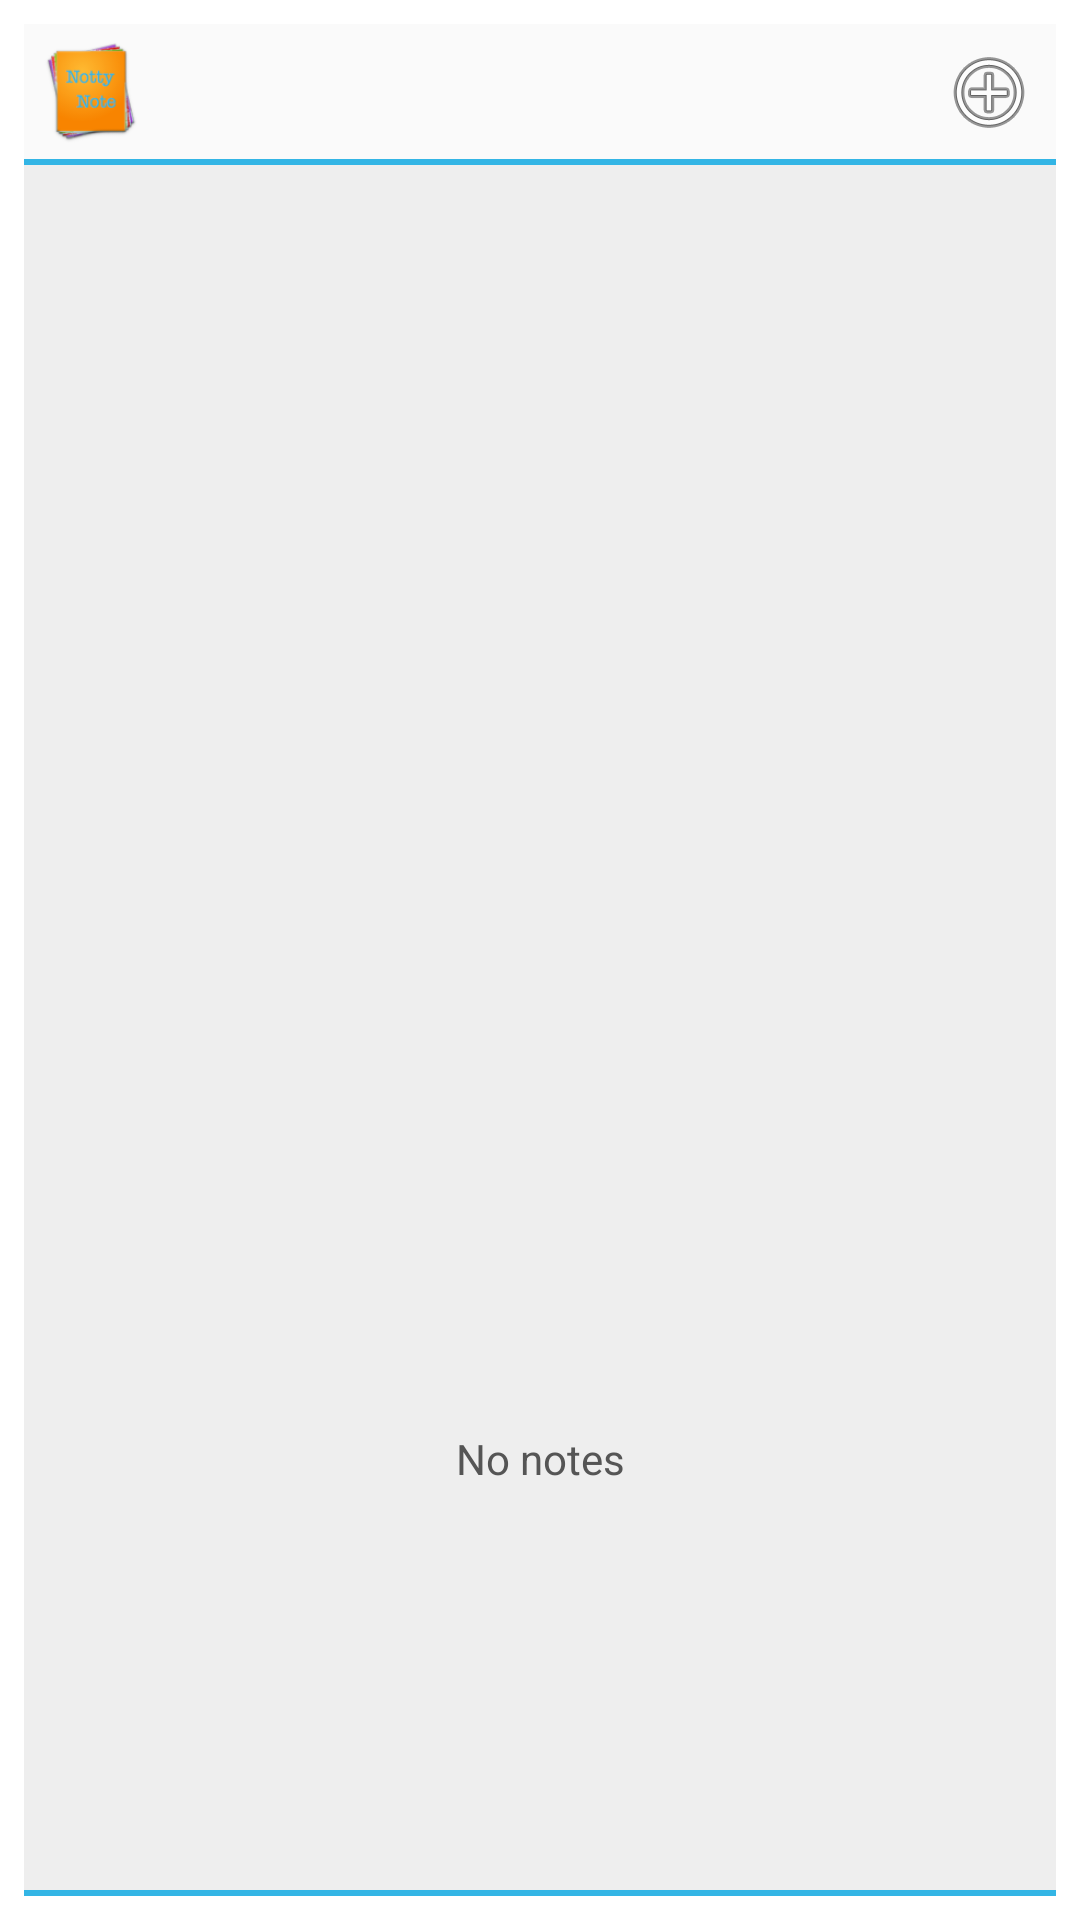

Where icons sit on this 1080 × 1920 app screen, as BBox(x1, y1, x2, y2):
add: BBox(953, 57, 1025, 128)
